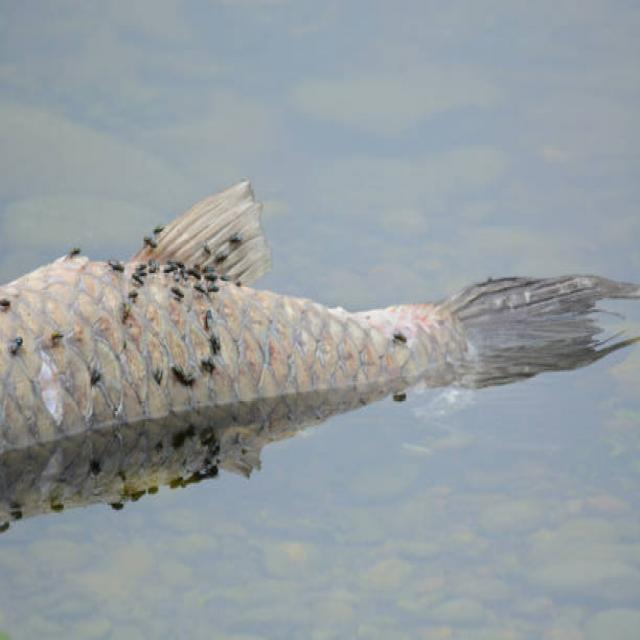EUS Disease: (0, 178, 640, 544)
